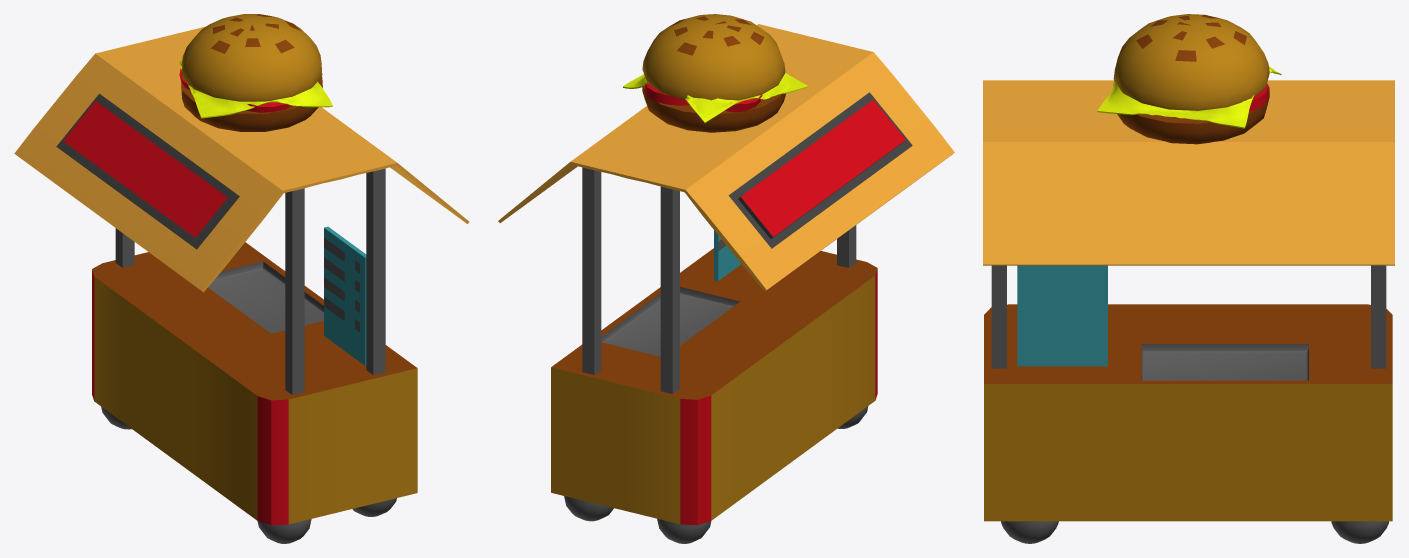
The model's file is Counter.fbx.
3 views of the same model, side by side, from view 1: azimuth 30°, elevation 25°; view 2: azimuth 150°, elevation 25°; view 3: azimuth 270°, elevation 25° (orthographic). The views are drawn at different scales.
Parts seen in each view (by area): view 1: Counter; view 2: Counter; view 3: Counter.
Boxes of the visible parts, <box> form: Counter: <box>14,14,469,543</box>; Counter: <box>498,14,954,543</box>; Counter: <box>983,14,1394,543</box>.
Bounding box in the file's own units: 670 × 1069 × 812.
